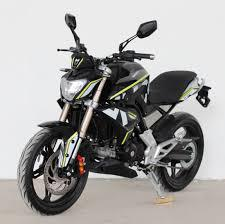Motorcycle: (12, 9, 216, 220)
